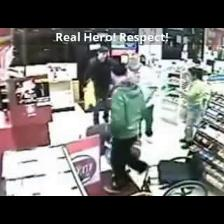person: (105, 65, 147, 193), (128, 55, 158, 137), (180, 67, 209, 149), (84, 47, 112, 124)
